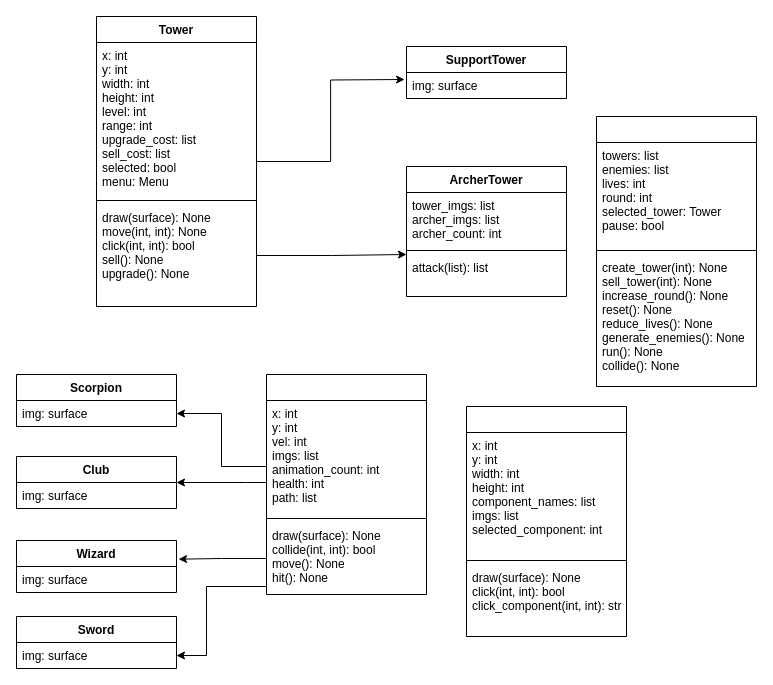
Image size: 773x685. Some labels were removed from this diagram. Each missing label, with the box of its shape:
Enemy: (266, 374, 426, 594)
Game: (596, 116, 756, 386)
Menu: (466, 406, 626, 636)
